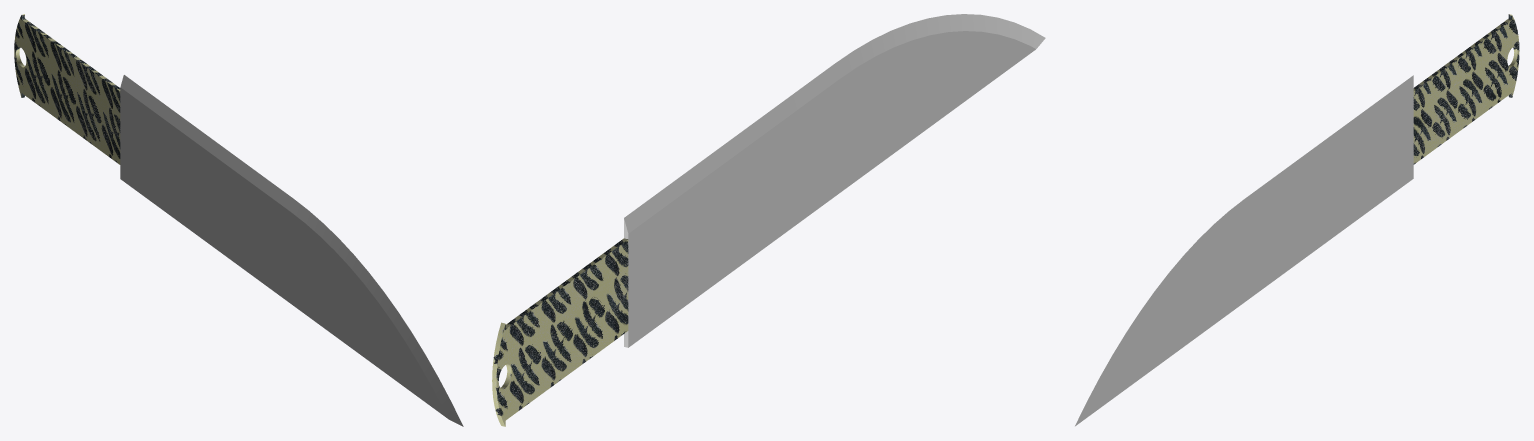
Rendered from model_align.obj.
3 renders of one model, left to right at view 1: azimuth 30°, elevation 25°; view 2: azimuth 150°, elevation 25°; view 3: azimuth 330°, elevation 25°, orthographic. The views are drawn at different scales.
Parts seen in each view (by area): view 1: mesh1_mesh1-geometry; view 2: mesh1_mesh1-geometry; view 3: mesh1_mesh1-geometry.
Boxes of the visible parts, box(x1,y1,x2,y2) form: mesh1_mesh1-geometry: box(14, 14, 463, 426); mesh1_mesh1-geometry: box(492, 14, 1045, 426); mesh1_mesh1-geometry: box(1075, 14, 1519, 426).
Bounding box in the file's own units: 0.000932 × 0.0259 × 0.2021.
